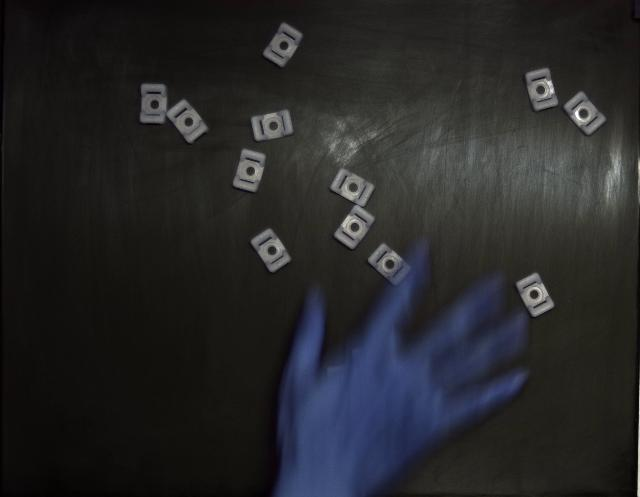first_side: (562, 91, 606, 136), (166, 100, 209, 144), (334, 205, 375, 250), (262, 22, 302, 68), (515, 272, 555, 318), (250, 229, 291, 272), (330, 169, 375, 208), (232, 149, 266, 192), (525, 68, 559, 111), (251, 110, 294, 141), (140, 84, 168, 124)
